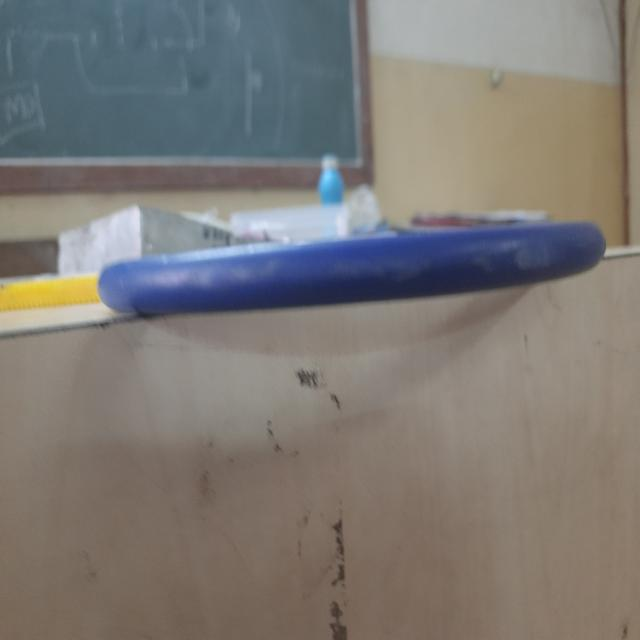daire: (99, 221, 593, 302)
